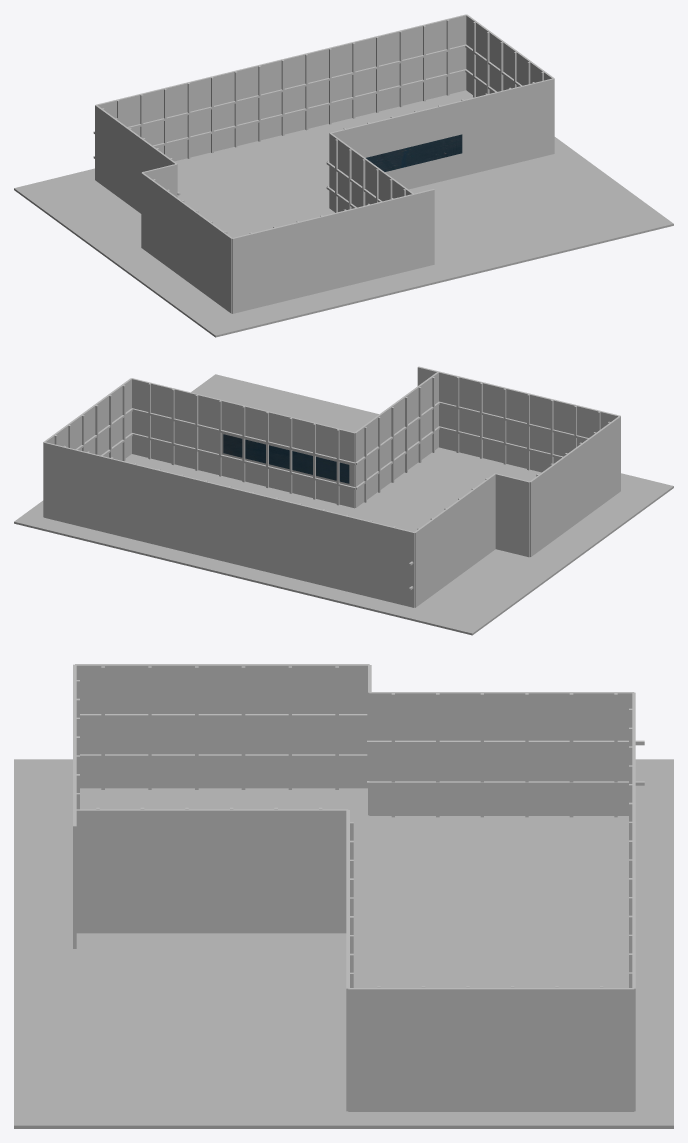
Rendered from Flight_arena_3.dae.
The picture shows the model from 3 angles, top to bottom: view 1: azimuth 30°, elevation 25°; view 2: azimuth 150°, elevation 25°; view 3: azimuth 270°, elevation 25°; orthographic projection. The views are drawn at different scales.
Visible parts, largest first — view 1: ground_plane, Cube.015, side_wall, windows_wall.002, windows; view 2: Cube.015, ground_plane, side_wall, windows_wall.002, windows; view 3: ground_plane, Cube.015, side_wall, windows_wall.002.
Part boxes in pixels (x1,y1,x2,y2): ground_plane: (14,90,673,337); Cube.015: (93,14,554,313); side_wall: (96,14,466,161); windows_wall.002: (330,78,554,189); windows: (366,134,462,171); Cube.015: (43,366,620,607); ground_plane: (14,374,673,635); side_wall: (43,442,414,607); windows_wall.002: (131,378,355,508); windows: (223,434,349,483); ground_plane: (14,759,673,1128); Cube.015: (73,664,644,1111); side_wall: (632,692,635,1111); windows_wall.002: (346,810,349,1111).
Size of the model in its own units: 50.6 by 38.52 by 8.1.
